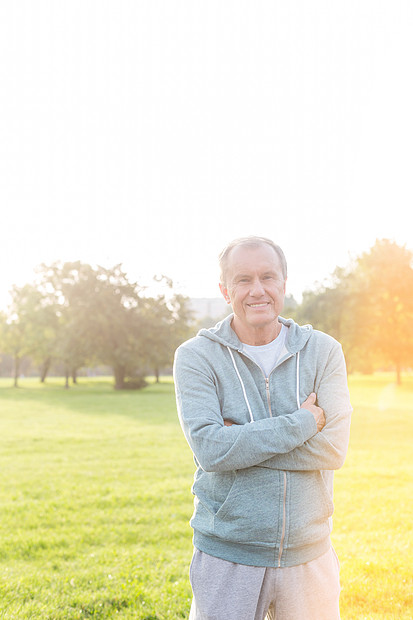standing: (153, 224, 347, 617)
